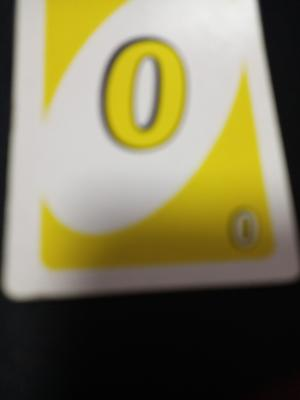num_0: (75, 21, 216, 170)
